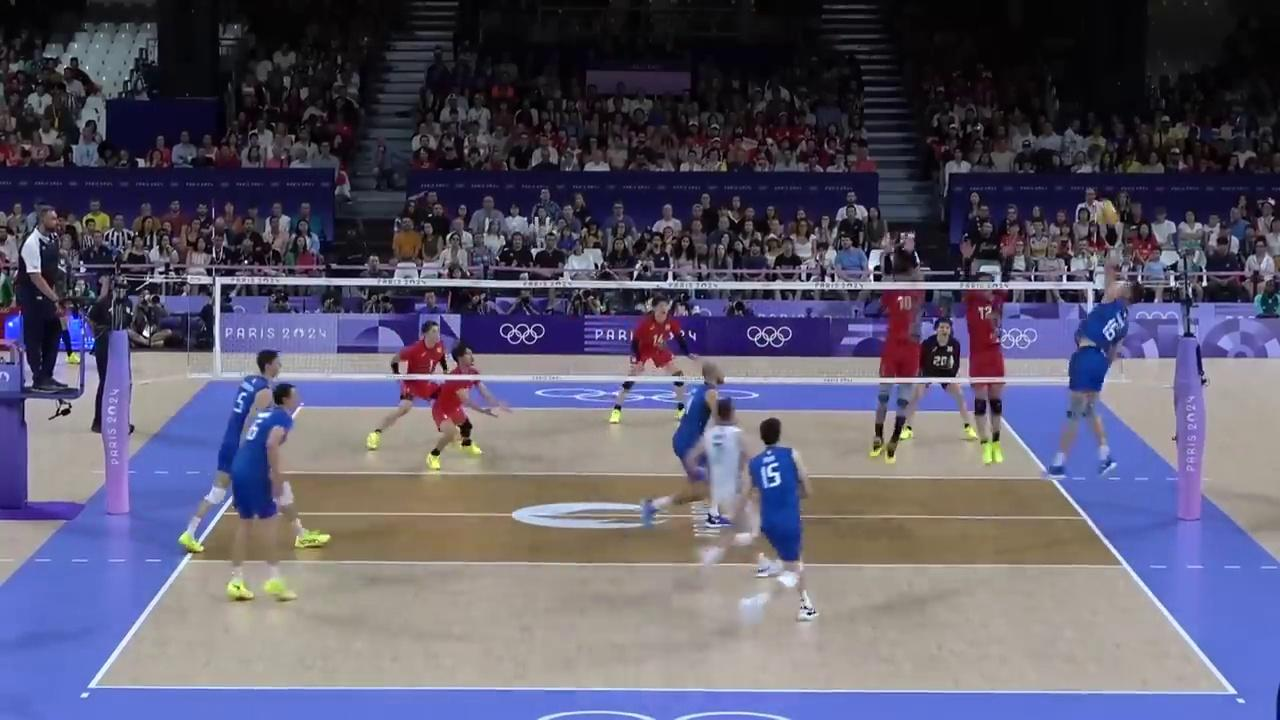ball: (1101, 199, 1119, 225)
